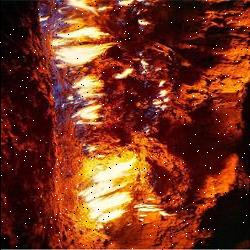fire: (32, 1, 176, 237)
